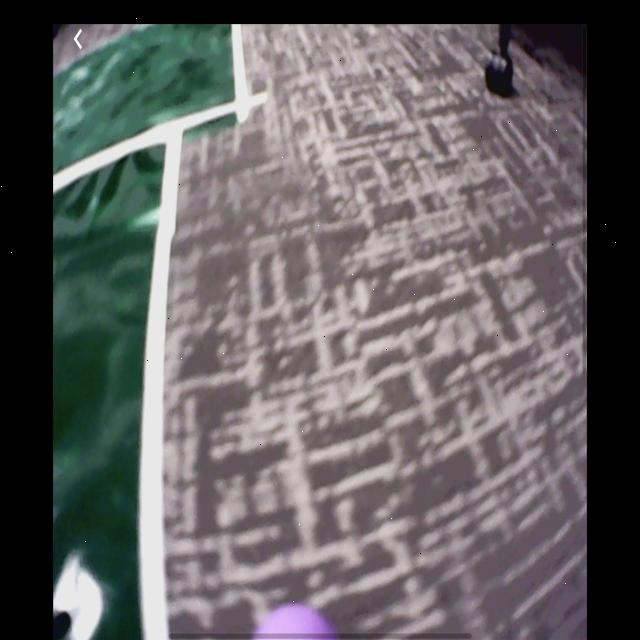ball: (253, 605, 332, 640)
